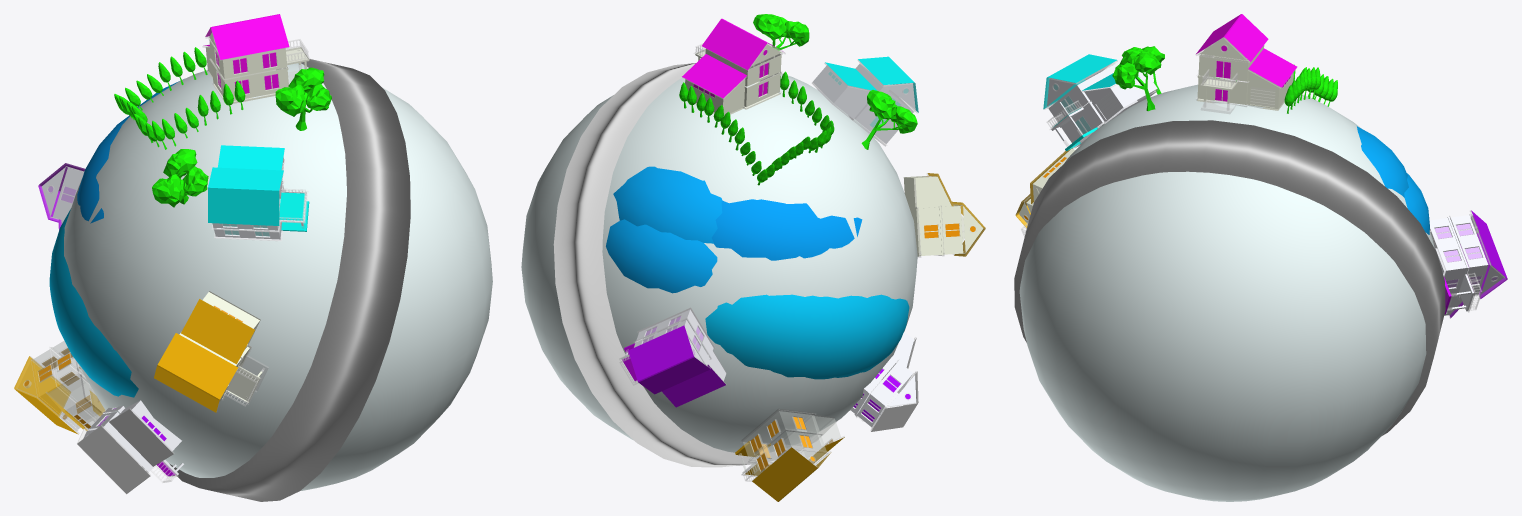
The picture shows the model from 3 angles, left to right: view 1: azimuth 30°, elevation 25°; view 2: azimuth 150°, elevation 25°; view 3: azimuth 270°, elevation 25°; orthographic projection. The views are drawn at different scales.
Visible parts, largest first — view 1: Sphere, Cylinder, 6H1.003, 6H1.001, 6H1, 6H1.002, Sphere.004, 6H1.004, Tree_average_regular_Cube.001, Tree_average_regular_Cube.002, 6H1.005, Sphere.003; view 2: Sphere, Cylinder, Sphere.004, Sphere.003, 6H1.005, 6H1, 6H1.004, Sphere.002, Sphere.005, 6H1.001, 6H1.003, 6H1.002 (+2 smaller); view 3: Sphere, Cylinder, 6H1, 6H1.001, 6H1.005, Sphere.002, Tree_average_regular_Cube.002, 6H1.003, Sphere.005.
Part boxes in pixels (x1,y1,x2,y2): Sphere: [64, 63, 492, 490]; Cylinder: [169, 59, 410, 501]; 6H1.003: [154, 291, 268, 412]; 6H1.001: [208, 145, 309, 240]; 6H1: [202, 14, 310, 104]; 6H1.002: [77, 400, 183, 494]; Sphere.004: [49, 209, 138, 397]; 6H1.004: [14, 341, 105, 434]; Tree_average_regular_Cube.001: [152, 149, 208, 207]; Tree_average_regular_Cube.002: [275, 67, 331, 130]; 6H1.005: [38, 163, 85, 230]; Sphere.003: [77, 115, 129, 223]; Sphere: [521, 73, 917, 452]; Cylinder: [553, 63, 837, 467]; Sphere.004: [705, 294, 909, 379]; Sphere.003: [711, 199, 862, 260]; 6H1.005: [619, 307, 726, 407]; 6H1: [682, 18, 785, 116]; 6H1.004: [735, 409, 844, 501]; Sphere.002: [613, 166, 722, 243]; Sphere.005: [606, 219, 717, 293]; 6H1.001: [812, 56, 918, 146]; 6H1.003: [903, 173, 985, 257]; 6H1.002: [850, 332, 918, 431]; Sphere: [1019, 84, 1434, 501]; Cylinder: [1014, 120, 1445, 435]; 6H1: [1195, 14, 1297, 113]; 6H1.001: [1043, 54, 1158, 151]; 6H1.005: [1429, 210, 1507, 318]; Sphere.002: [1357, 126, 1408, 197]; Tree_average_regular_Cube.002: [1112, 47, 1161, 111]; 6H1.003: [1015, 148, 1075, 236]; Sphere.005: [1404, 173, 1429, 234].
Size of the model in its own units: 2.11 by 2.36 by 2.35.
